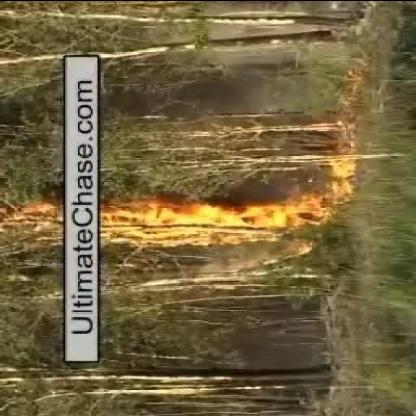foggia-v2-map80-epoch100 - v1 4323: (100, 201, 285, 239), (26, 202, 60, 228)
